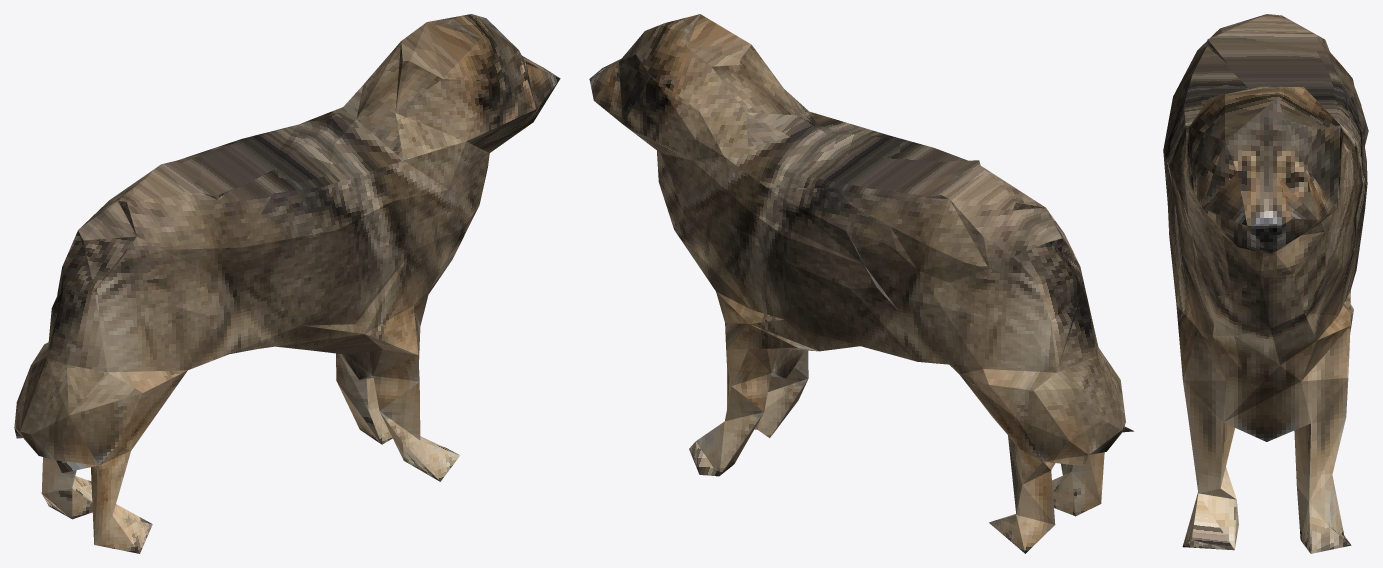
File: animal.ganado.perro_pastor.glb
3 renders of one model, left to right at view 1: azimuth 30°, elevation 25°; view 2: azimuth 150°, elevation 25°; view 3: azimuth 270°, elevation 25°, orthographic. The views are drawn at different scales.
Parts seen in each view (by area): view 1: animal.ganado.perro_pastor; view 2: animal.ganado.perro_pastor; view 3: animal.ganado.perro_pastor.
Boxes of the visible parts, bbox=[...] form: animal.ganado.perro_pastor: bbox=[14, 14, 560, 553]; animal.ganado.perro_pastor: bbox=[589, 14, 1133, 553]; animal.ganado.perro_pastor: bbox=[1163, 14, 1368, 553].
Bounding box in the file's own units: 1.24 × 0.9354 × 0.3548.
Materials: 1 (1 with a texture image).
